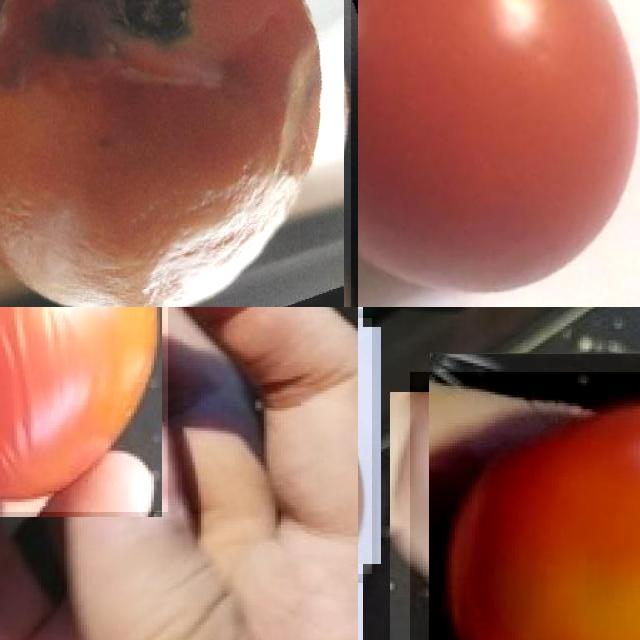0: (410, 372, 640, 640)
1: (0, 0, 351, 307)
Fresh Tomato: (358, 0, 640, 307)
Rotten Tomato: (0, 307, 167, 512)
